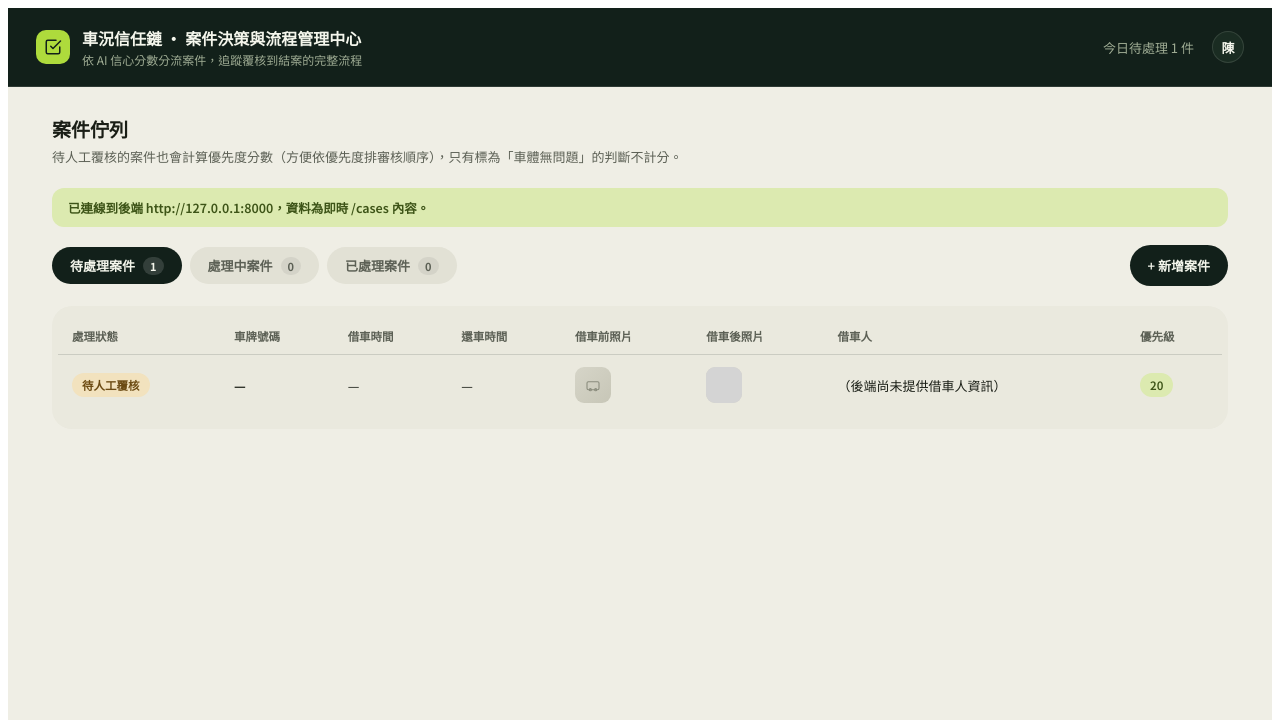
it: production backstage console › submits rejected review to Module E
Check: the text "已連線到後端 http://127.0.0.1:8000，資料為即時 /cases 內容。" is shown, box x1=52 y1=188 x2=1228 y2=227
Click the row "待人工覆核 — — — （後端尚未提供借車人資訊） 20".
click(640, 385)  # box x1=58 y1=354 x2=1222 y2=415
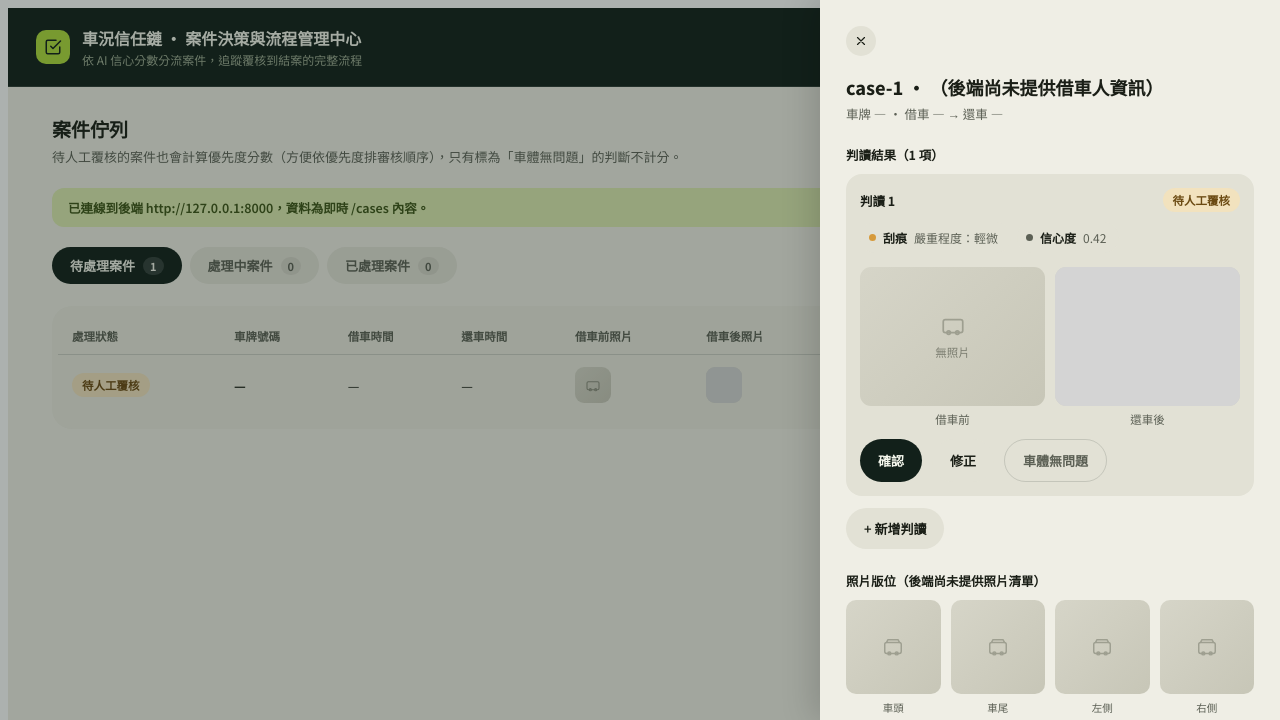
Click the button "車體無問題".
click(1056, 460)  # box x1=1004 y1=439 x2=1107 y2=482
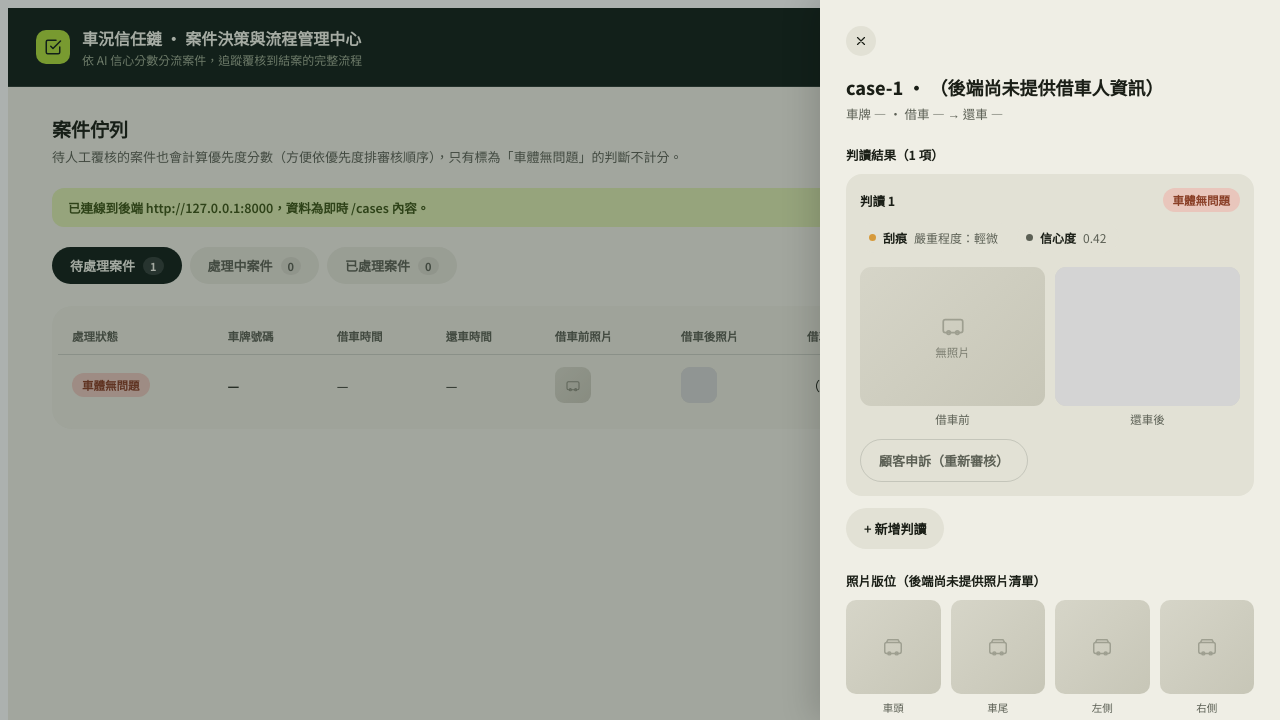
Check: the text "車體無問題" in the row of "尚未計算" is shown, box x1=82 y1=377 x2=140 y2=393
